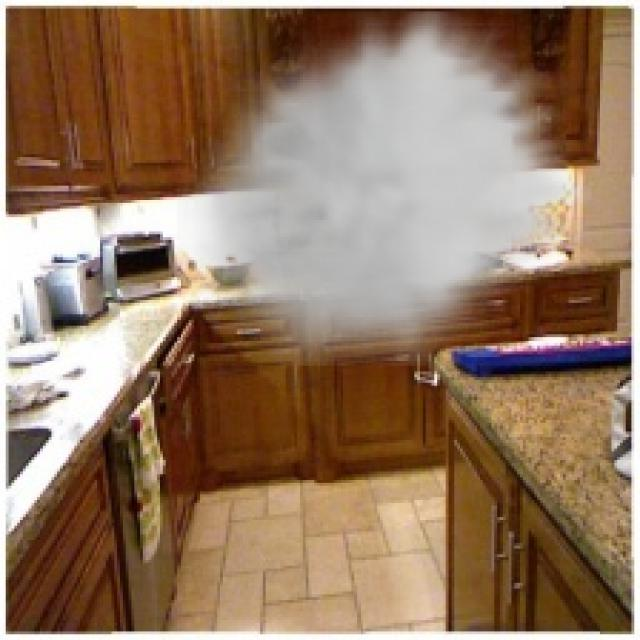smoke: (177, 11, 592, 366)
